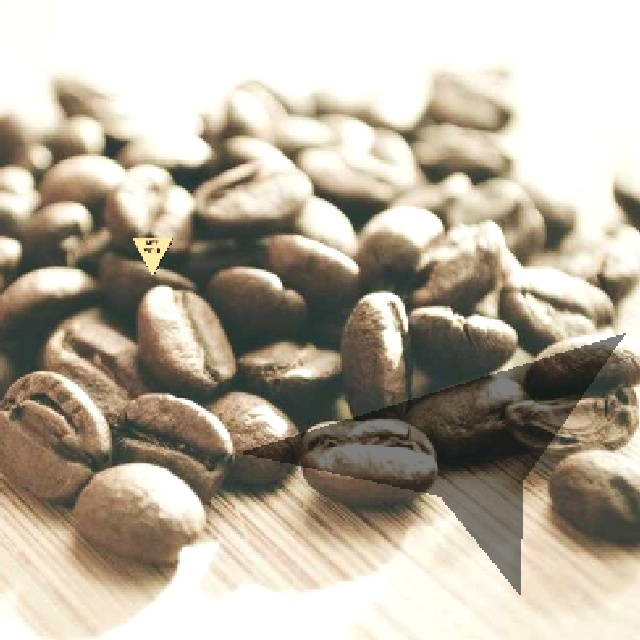NOT_YIELD: (130, 236, 172, 276)
